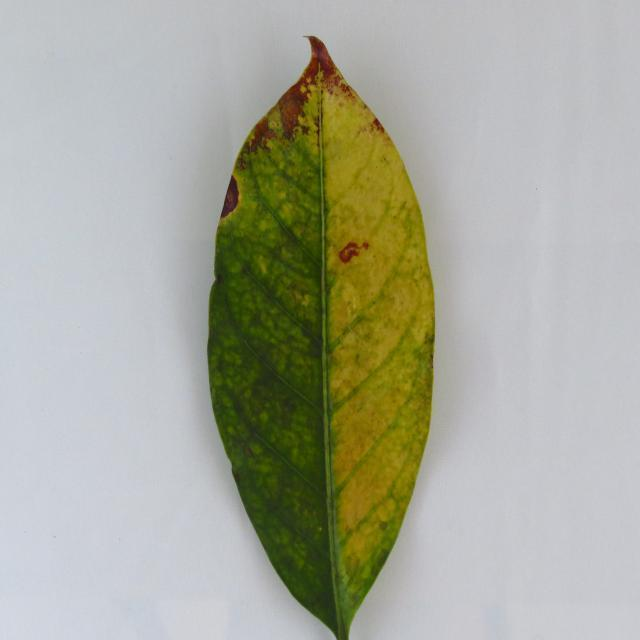DeficienciaNutricional-Nitrogeno: (208, 38, 432, 639)
